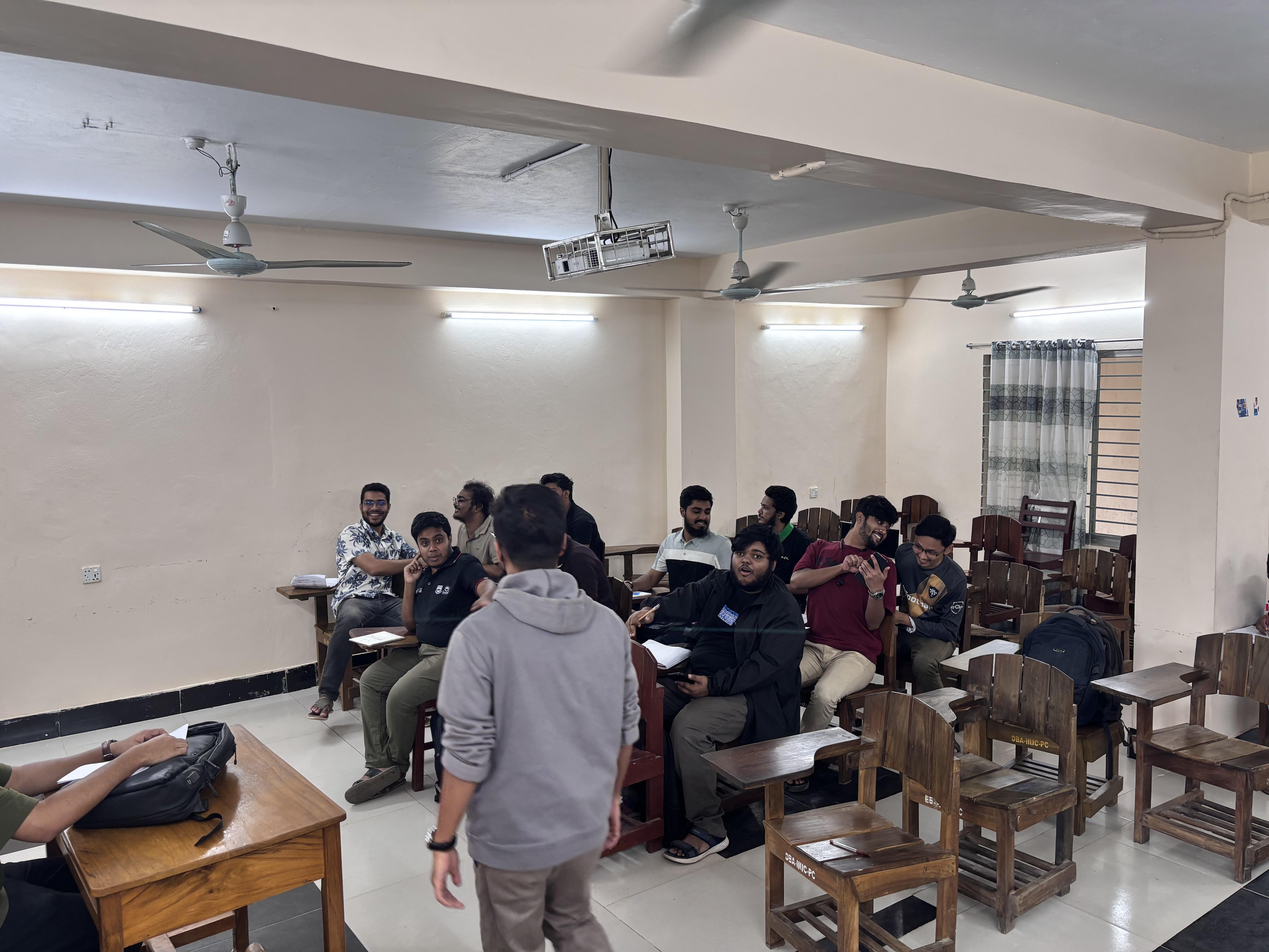invigilator: (423, 480, 648, 952), (0, 683, 239, 952)
no_cheating: (534, 473, 627, 550)
suspicious_moving: (340, 507, 497, 798), (304, 478, 419, 727), (634, 477, 738, 606), (445, 473, 507, 573), (752, 481, 814, 568)
using_phone: (632, 521, 815, 864), (799, 492, 975, 724)
